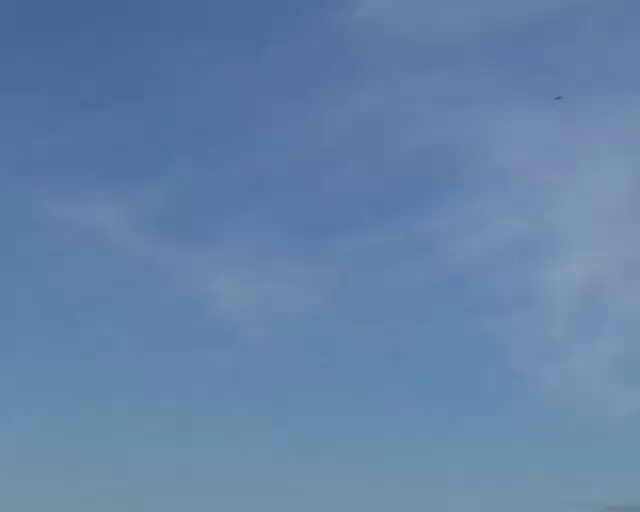AIRPLANE: (553, 94, 563, 102)
